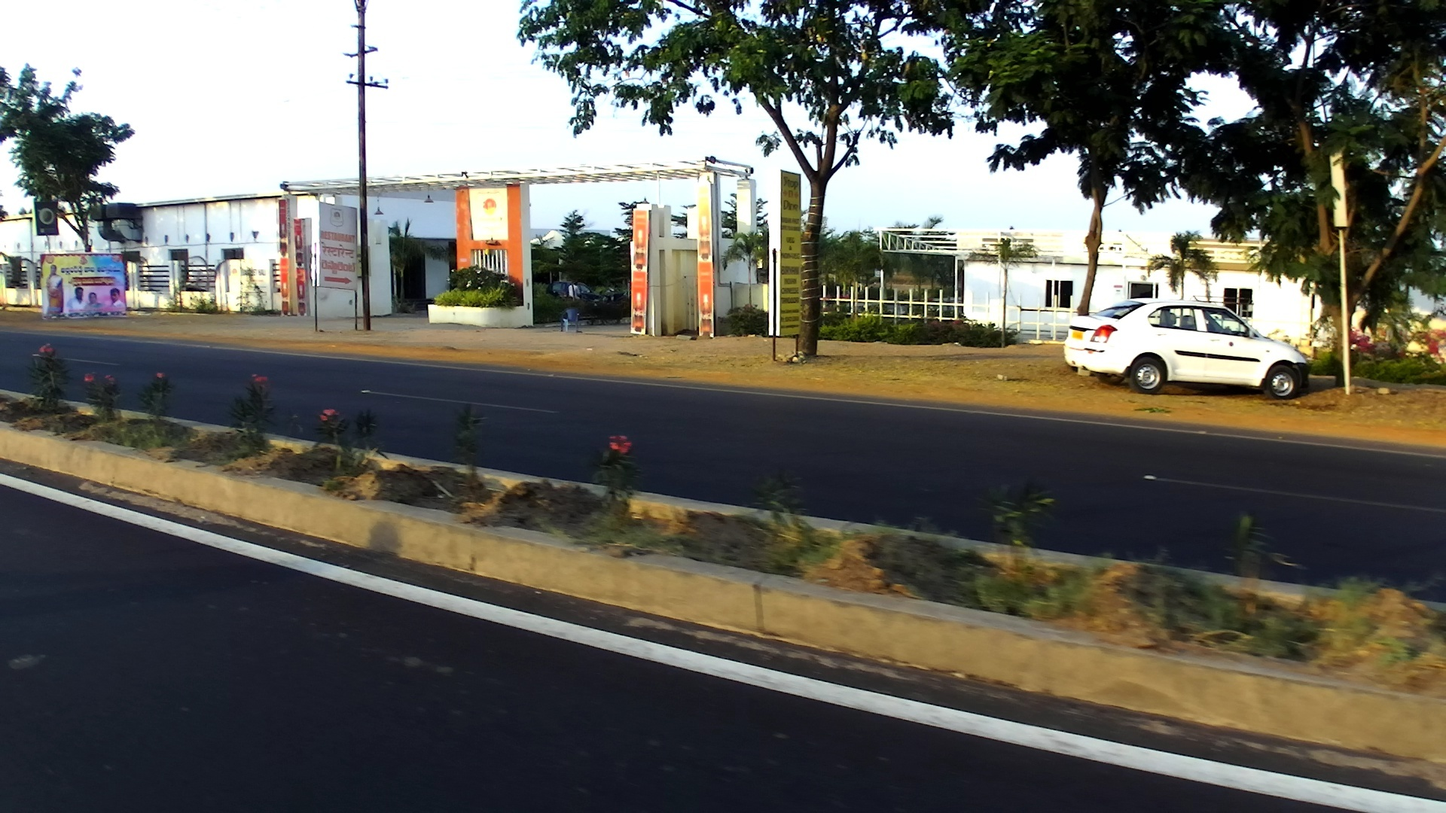car: (1063, 300, 1312, 400), (548, 281, 596, 306)
